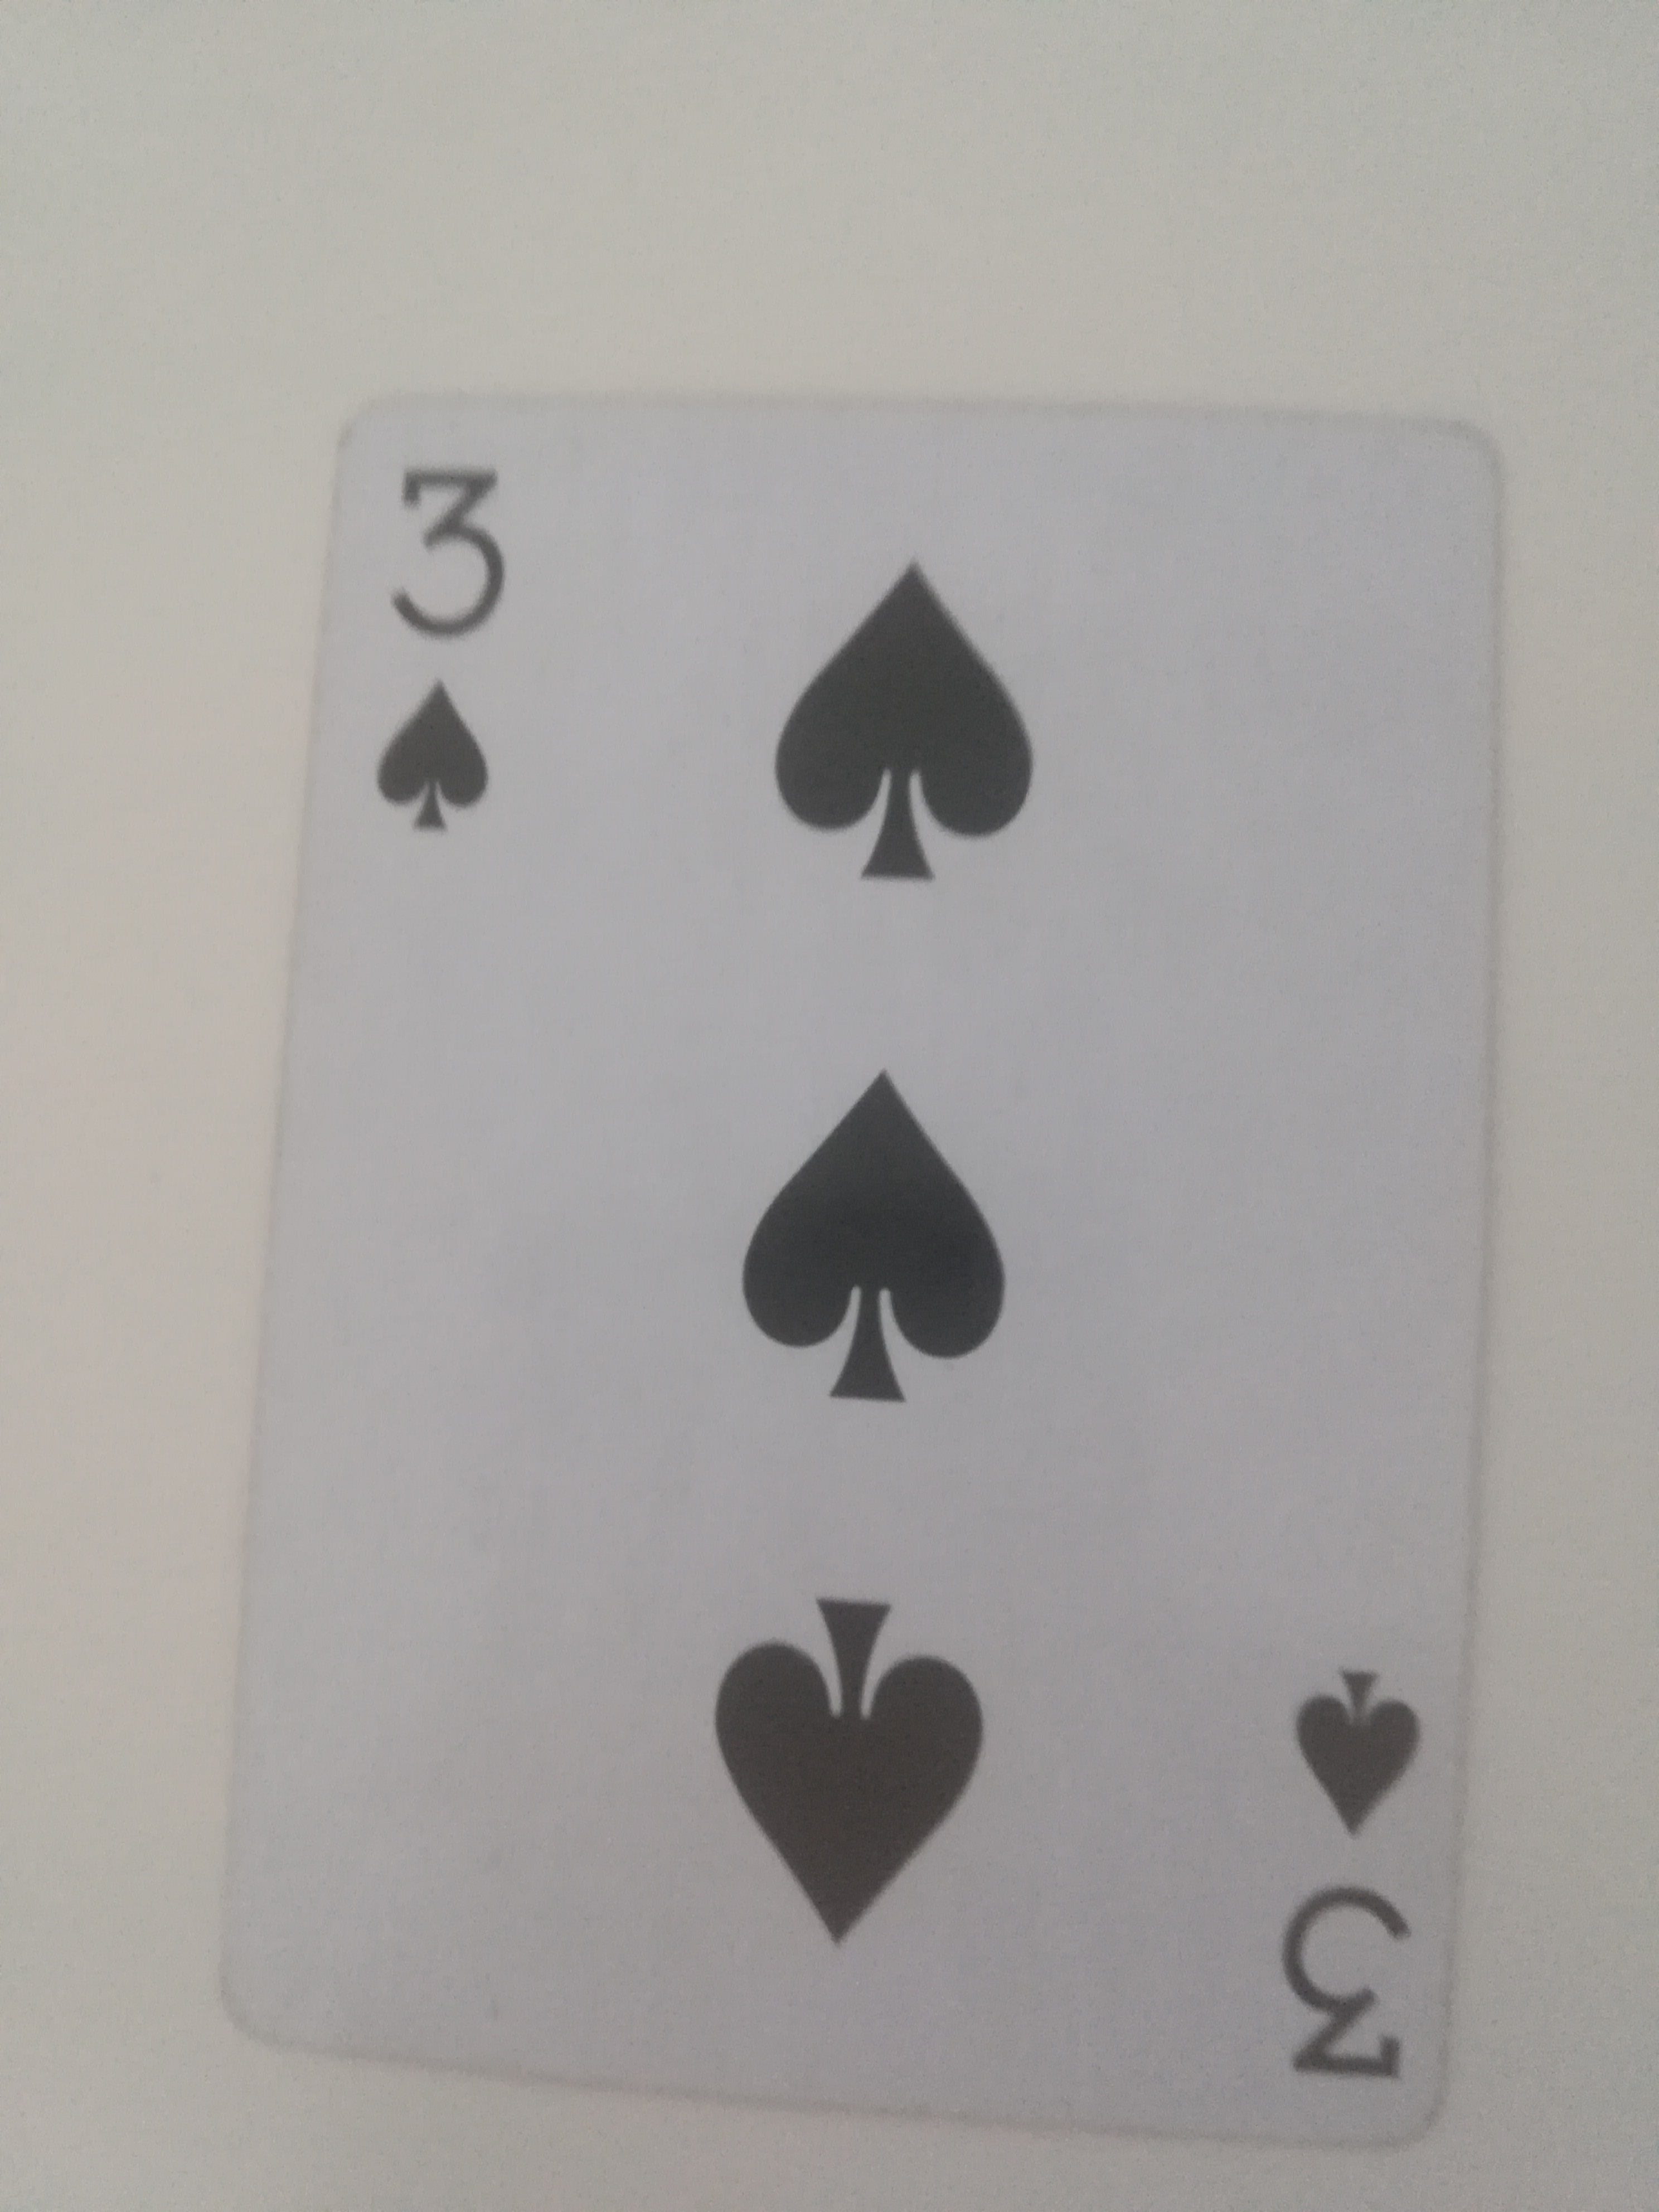3S: (225, 381, 1504, 2149)
